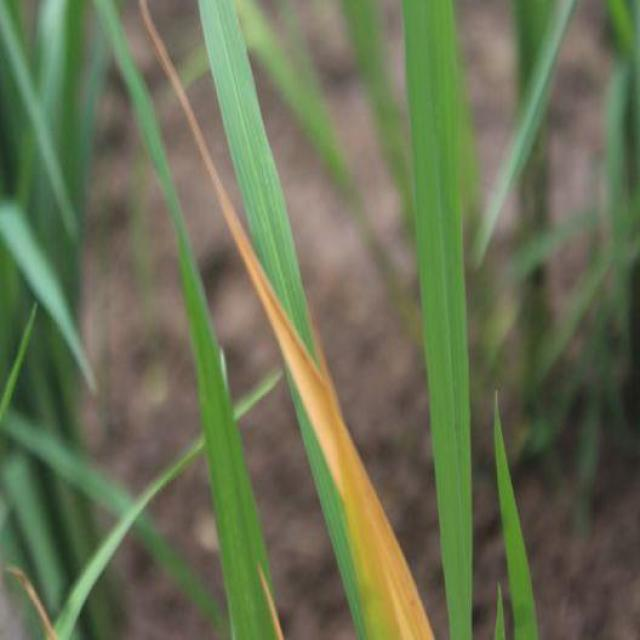Tungro: (165, 52, 428, 640)
